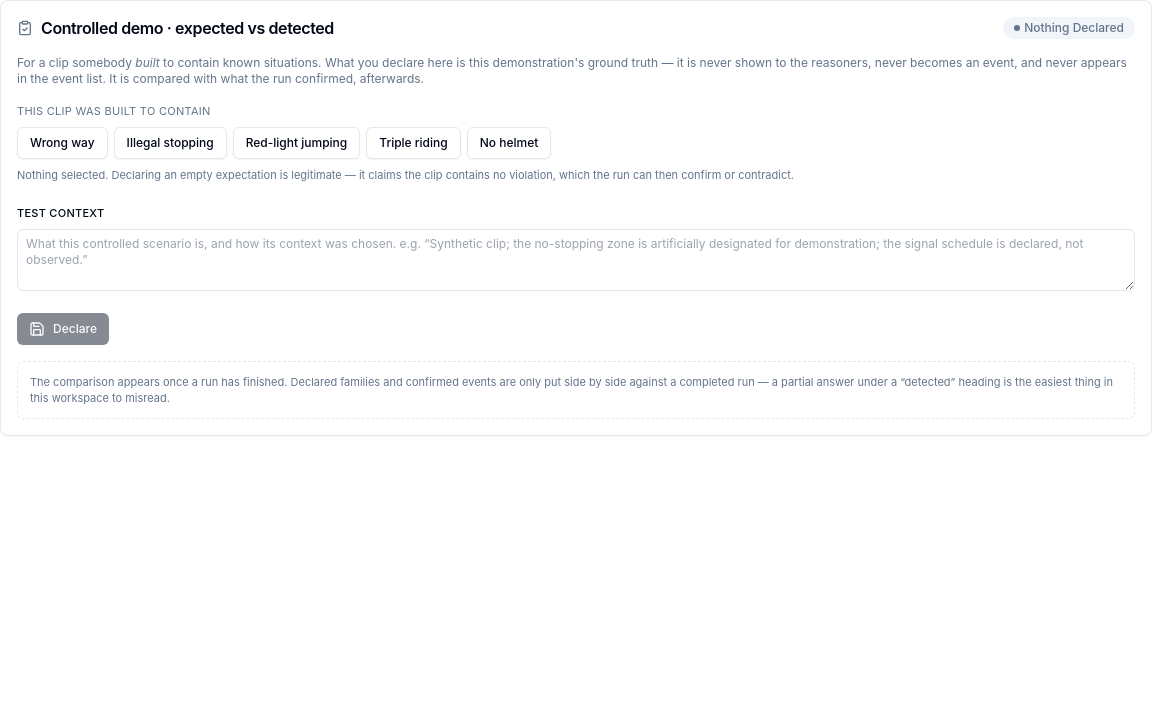
ExpectationPanel — declaring › surfaces a failed declaration rather than swallowing it
The width and height of the screenshot is (1152, 720).
What coordinates should you click on to do the following:
click the button "Wrong way"
I would click on:
 (62, 143)
Its box is top-left (17, 127), bottom-right (108, 159).
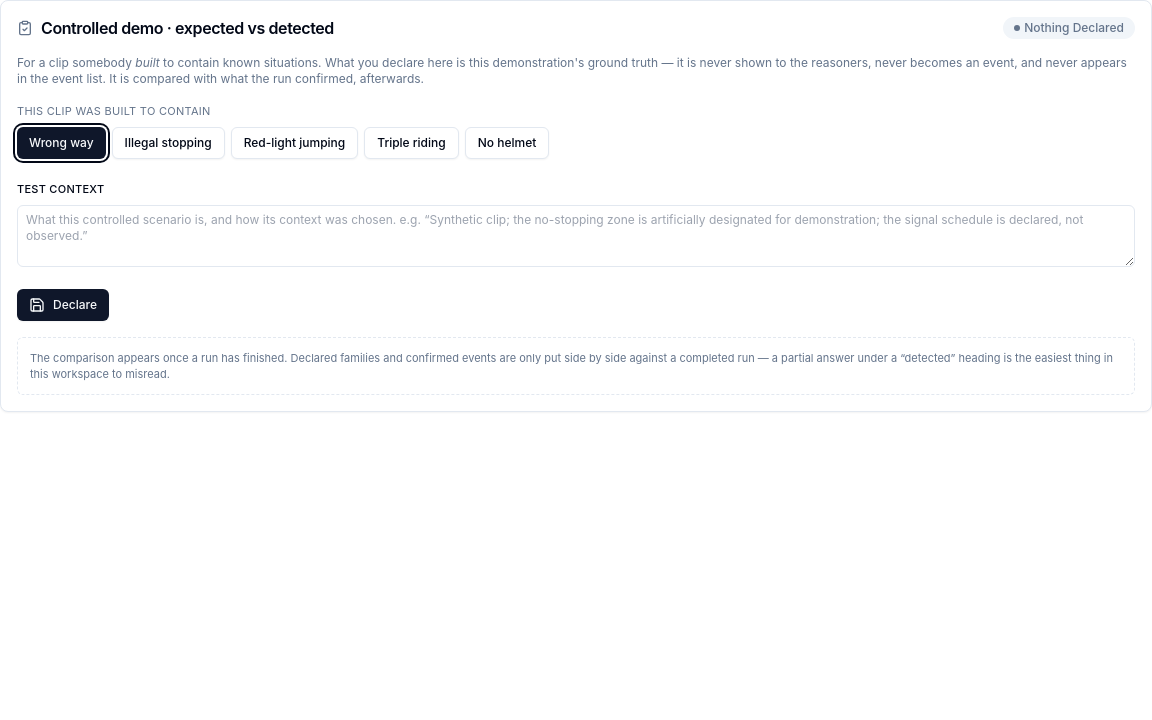
What coordinates should you click on to do the following:
click the button "Declare"
I would click on:
 (63, 305)
Its box is top-left (17, 289), bottom-right (109, 321).
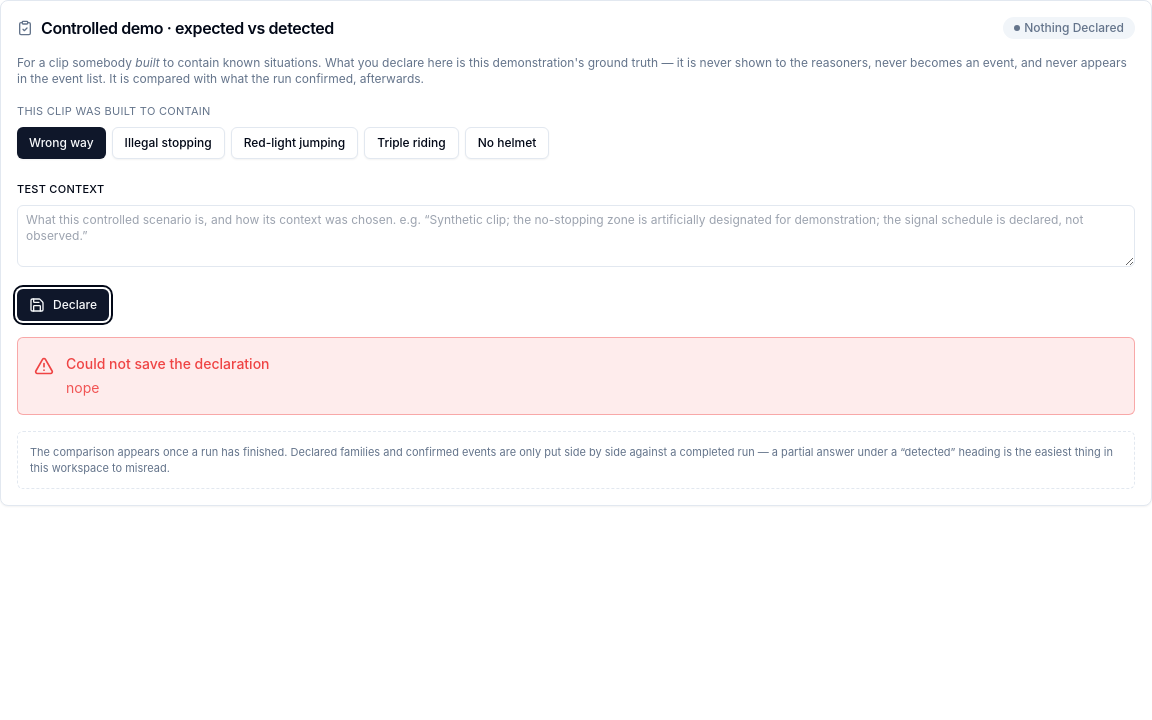
Expected: the text "Could not save the declaration" is shown, top-left (66, 355), bottom-right (270, 372)
